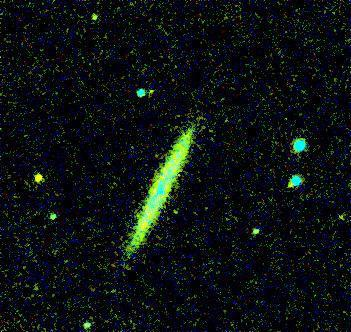star: (25, 164, 55, 194)
